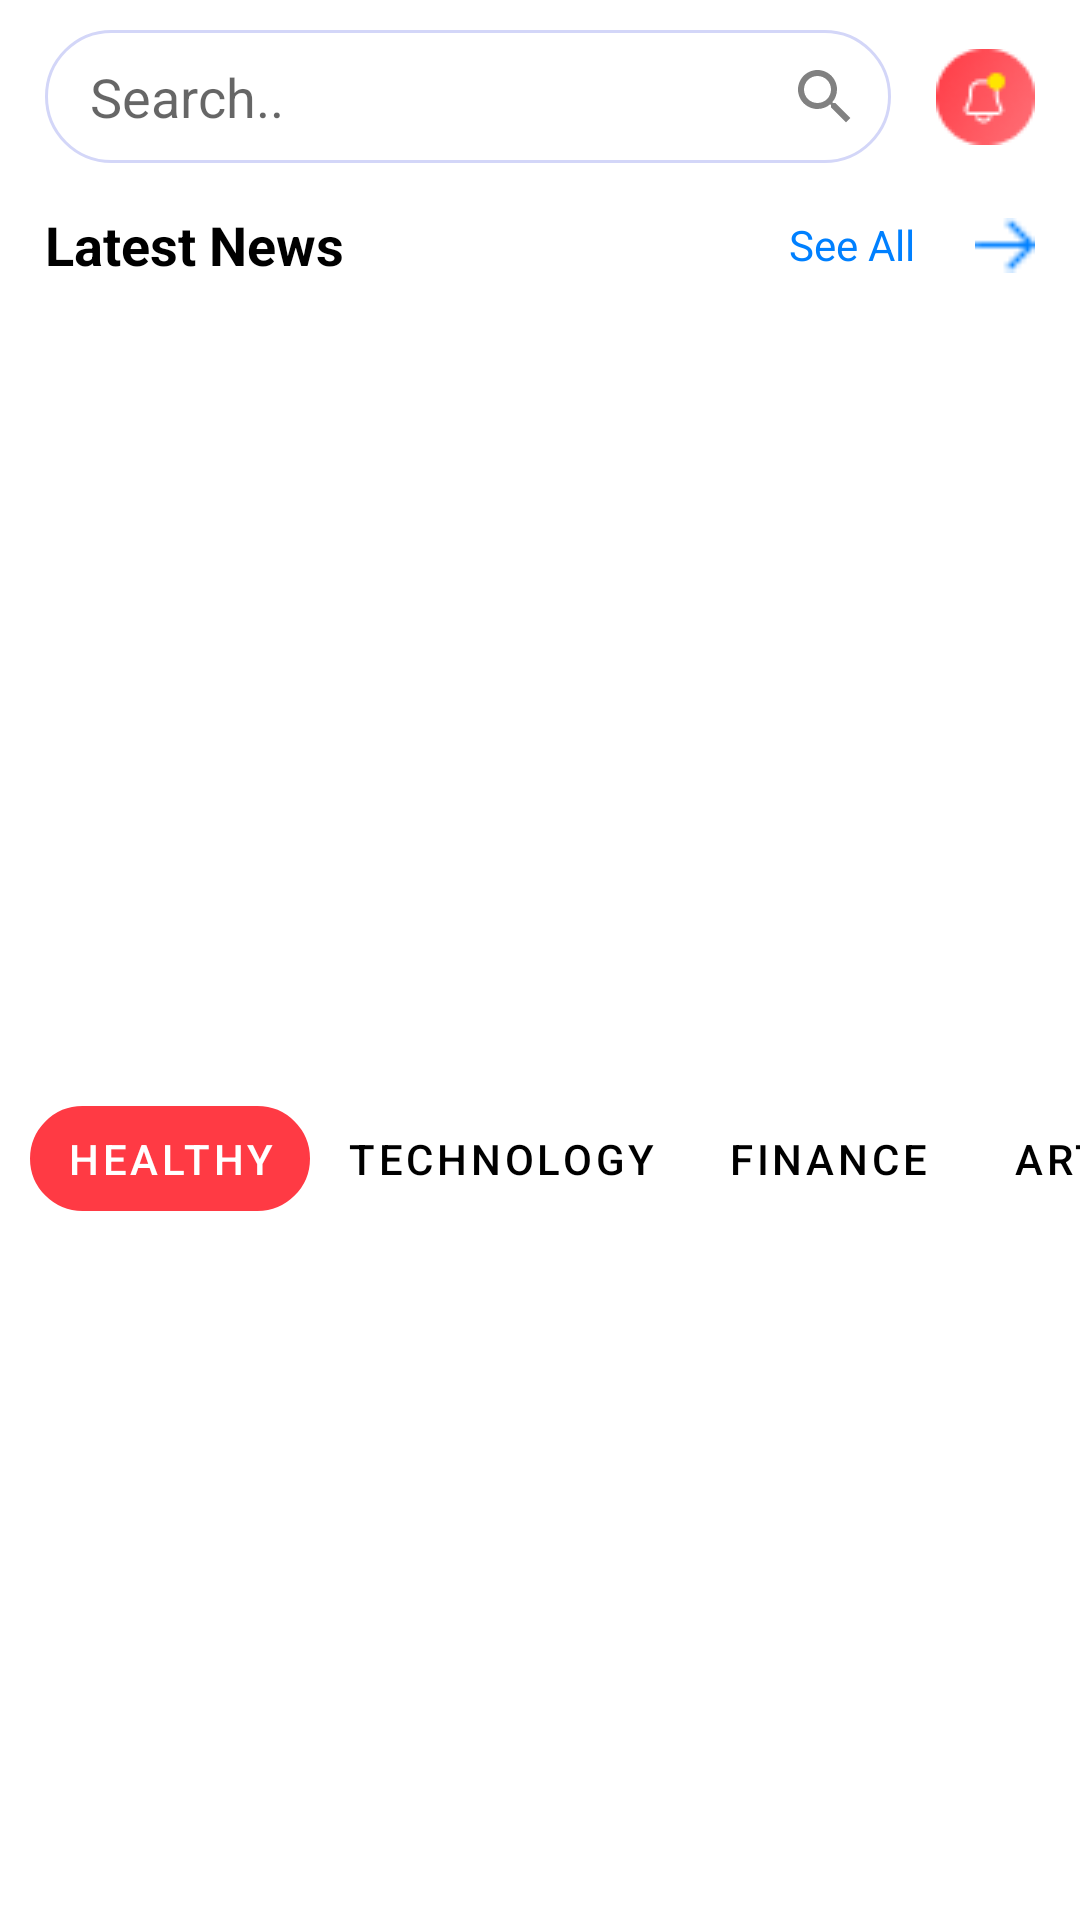

Where to tap for icons on this 1080 × 1920 app screen, as (x,y):
arrowimg: (1005,245)
notificationimg: (985,97)
